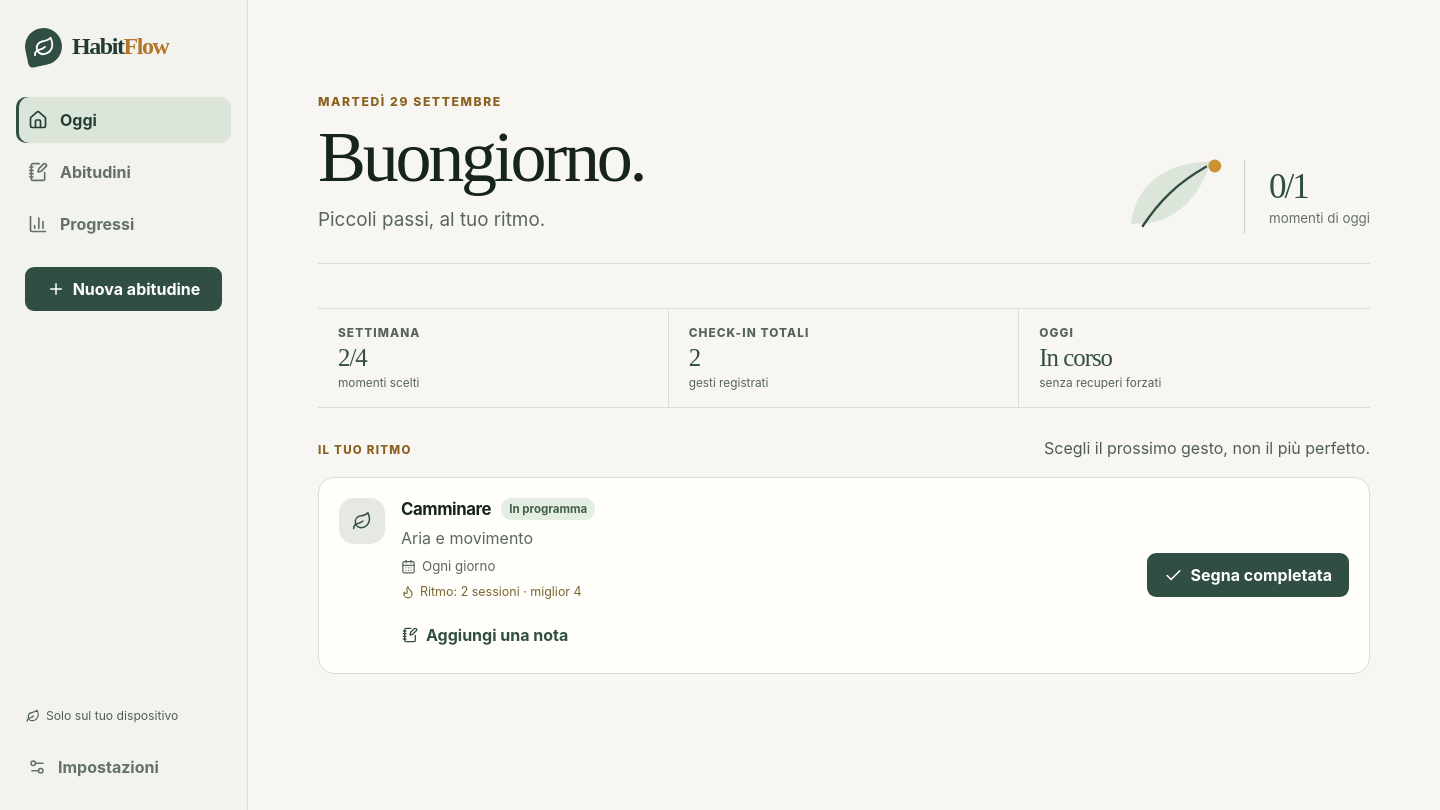
Test: HabitFlow UI › renders today and persists a visible idempotent completion state
The image size is (1440, 810).
Expected: the heading "Buongiorno." is shown, [318, 122, 644, 193]
Click the button "Aggiungi una nota" at [485, 634], box [401, 616, 569, 652]
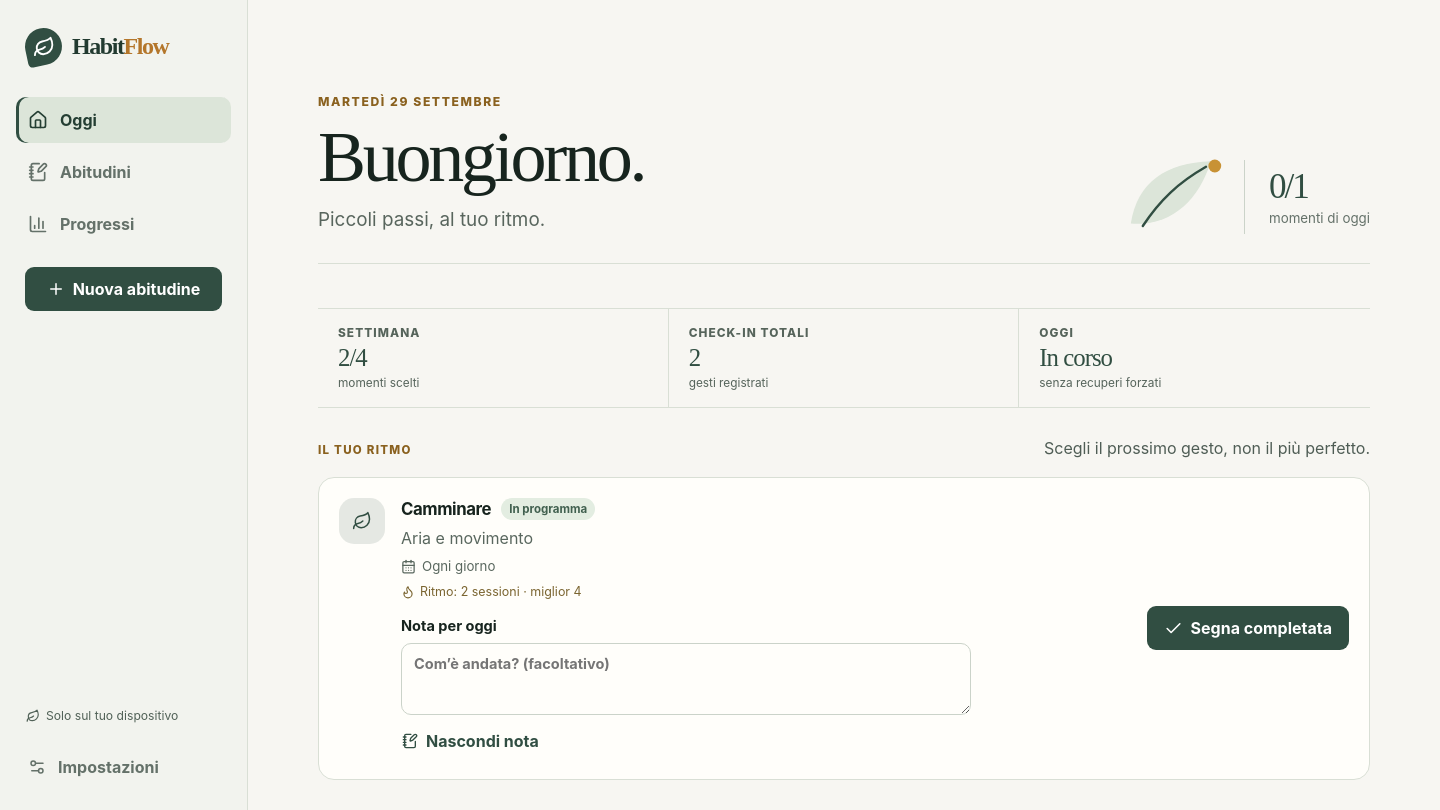
Type "Passeggiata lenta" into the text box labelled "Nota per oggi" at [686, 678], box [401, 642, 971, 714]
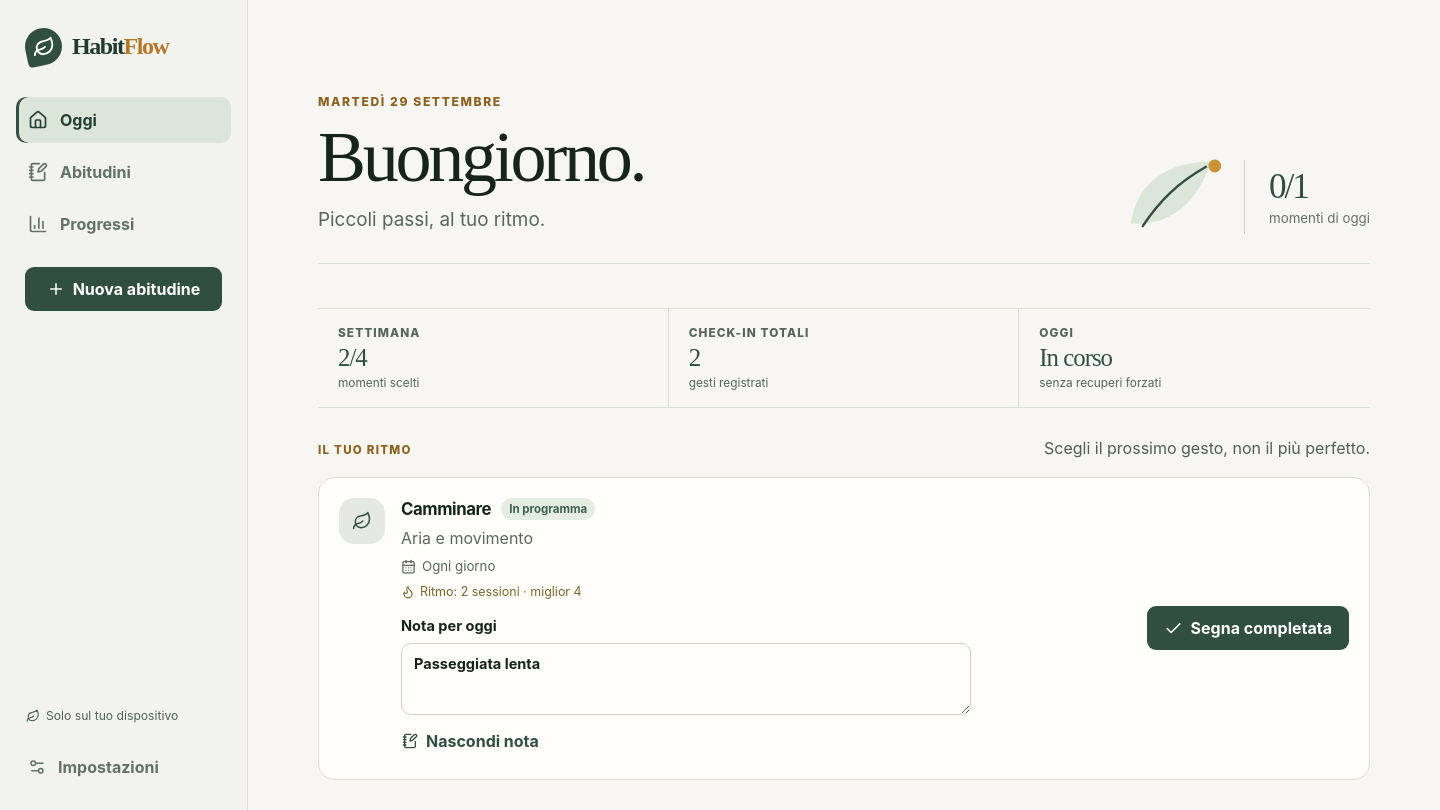
Click the button with aria-label "Segna completata Camminare" at [1248, 628], box [1147, 606, 1349, 650]
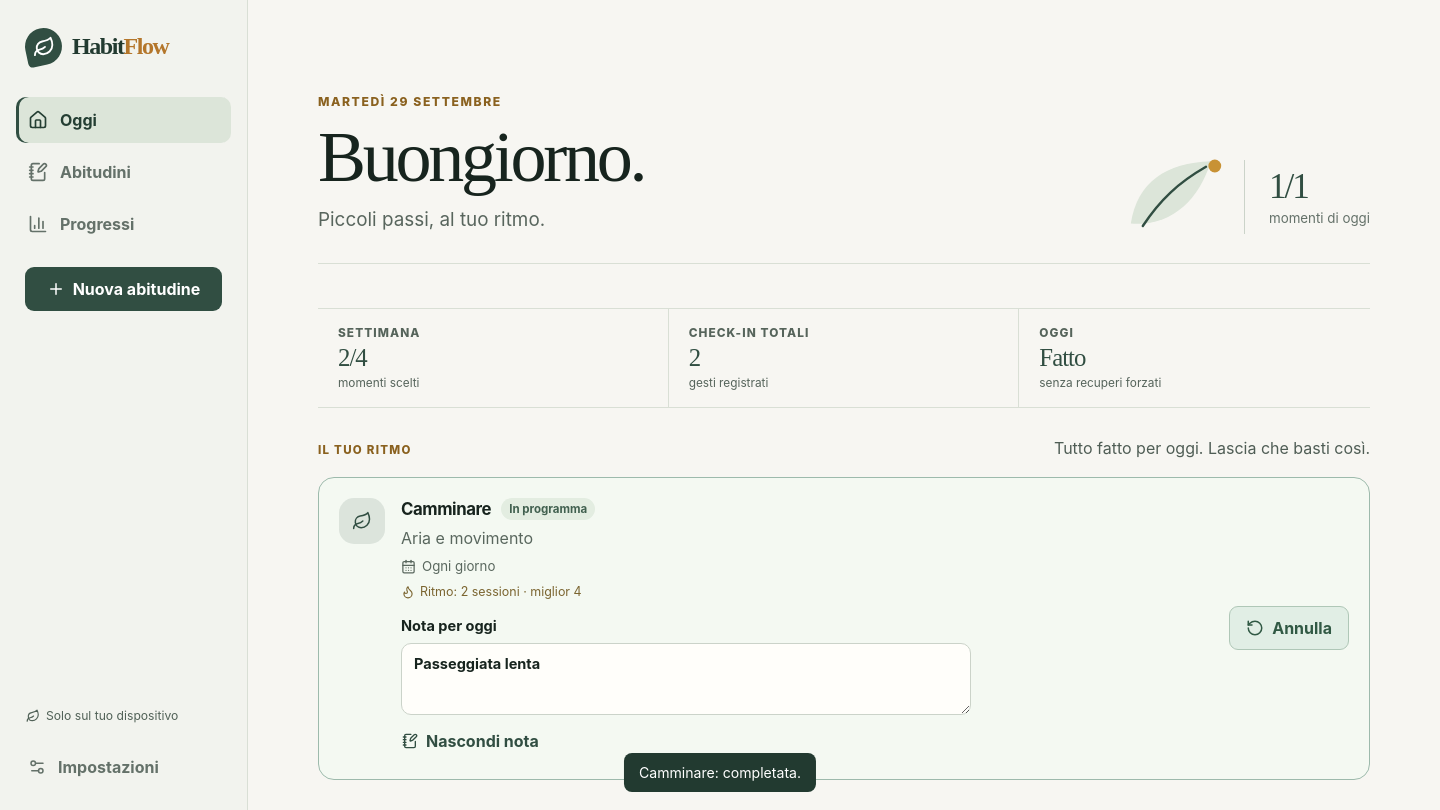
Expected: the button with aria-label "Annulla completamento Camminare" is shown, [1229, 606, 1349, 650]
